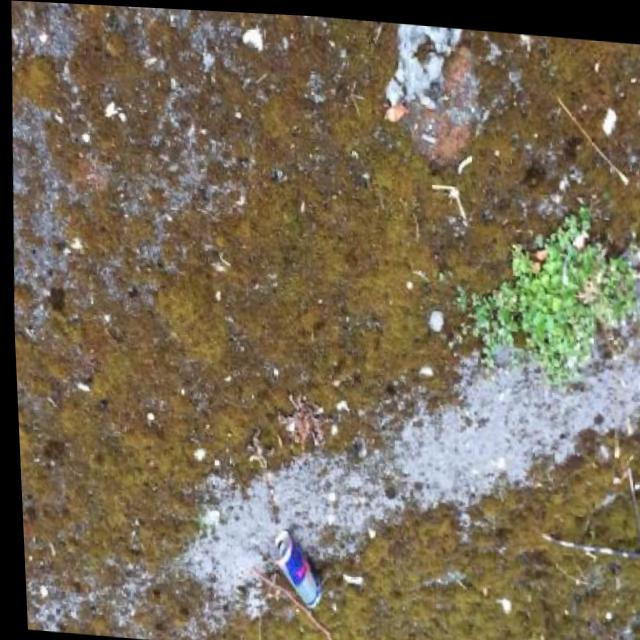metal: (271, 527, 325, 609)
